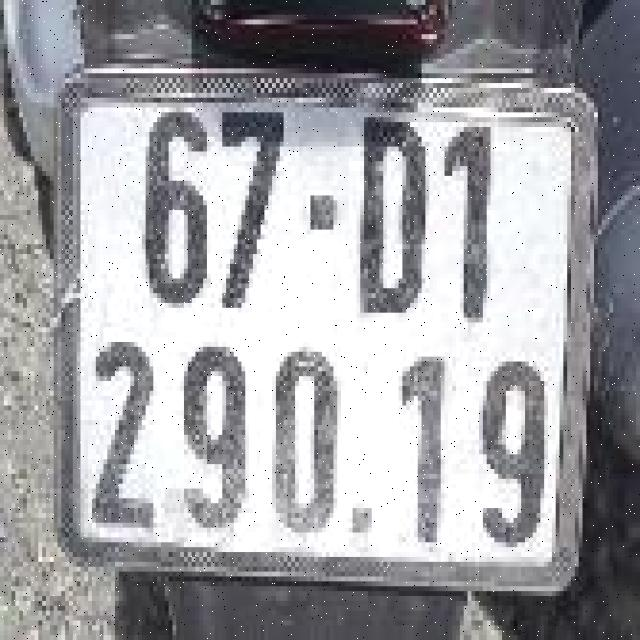0: (268, 347, 345, 542)
1: (389, 337, 458, 562), (444, 114, 490, 334)
2: (78, 325, 163, 545)
6: (134, 110, 215, 310)
7: (215, 88, 299, 317)
9: (165, 323, 264, 552), (464, 347, 556, 567)
D: (354, 102, 439, 322)
